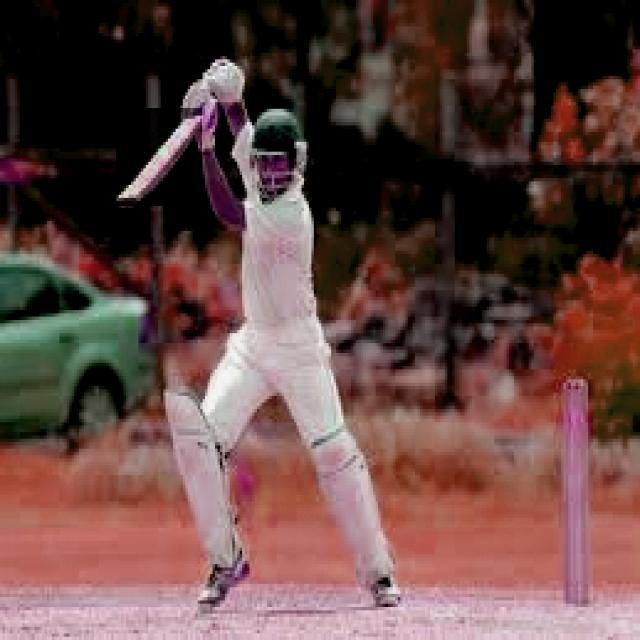bat: (114, 106, 204, 211)
toe: (115, 191, 143, 208)
